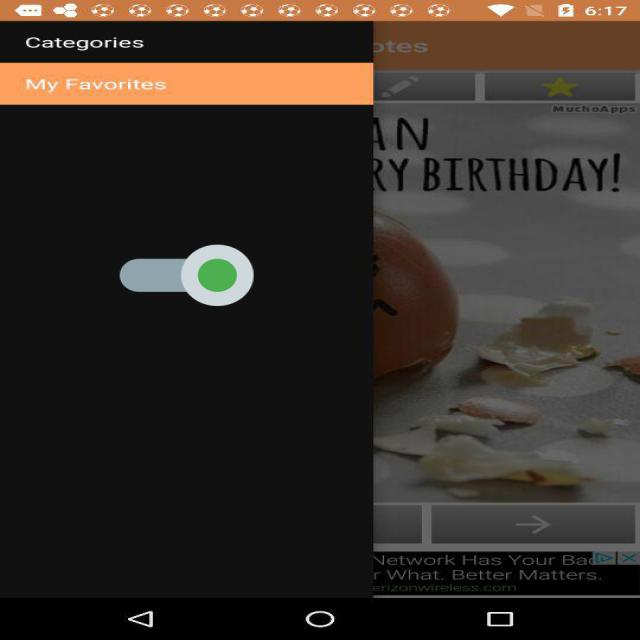social proof: (120, 219, 253, 332)
